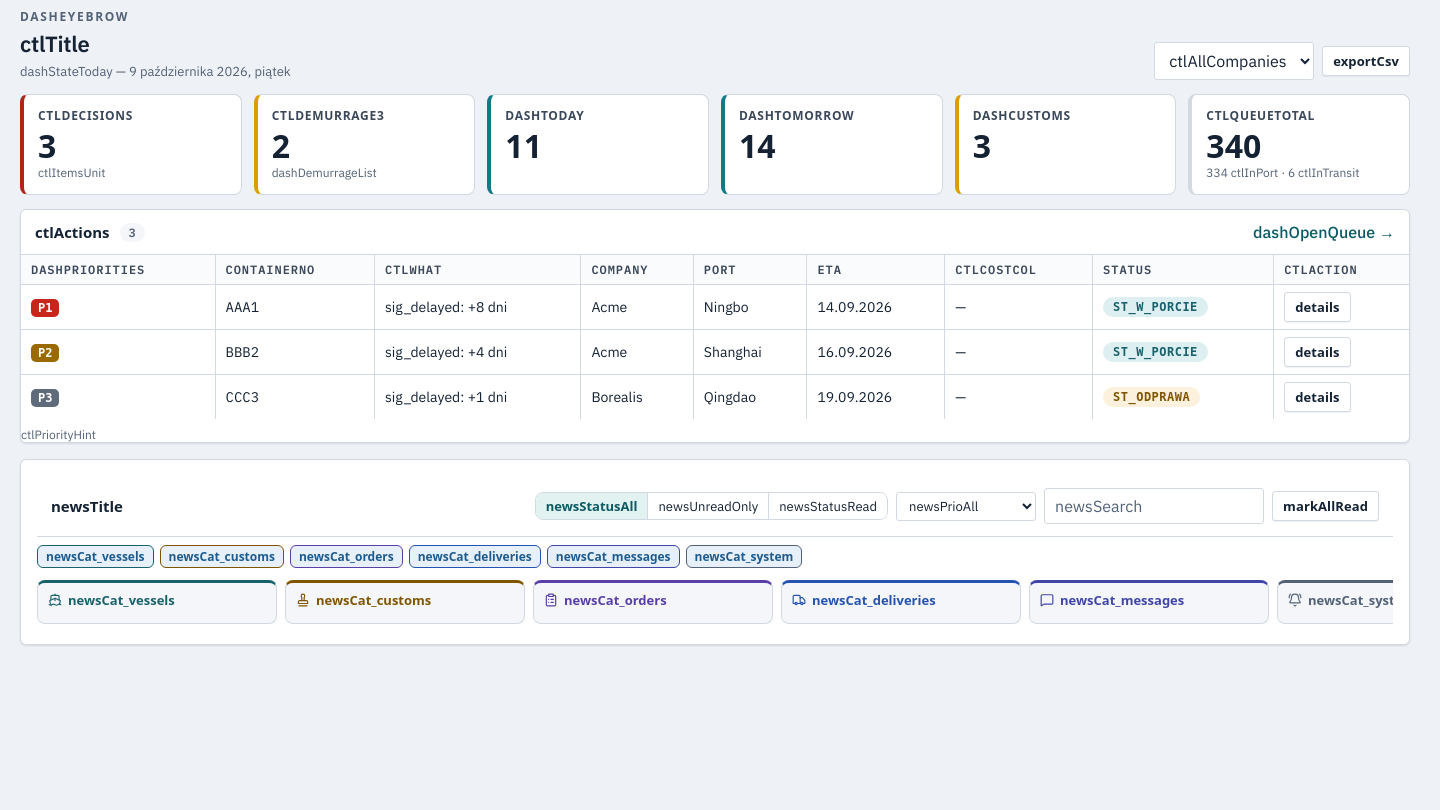
Test: Wieża kontrolna — dashboard 1a › filtr spółki zawęża listę działań
Expected: the text "CCC3" is shown, [215,375,374,419]
Select "Borealis" in the dropdown named "company" at {"x": 1234, "y": 61}, box [1154,42,1314,80]
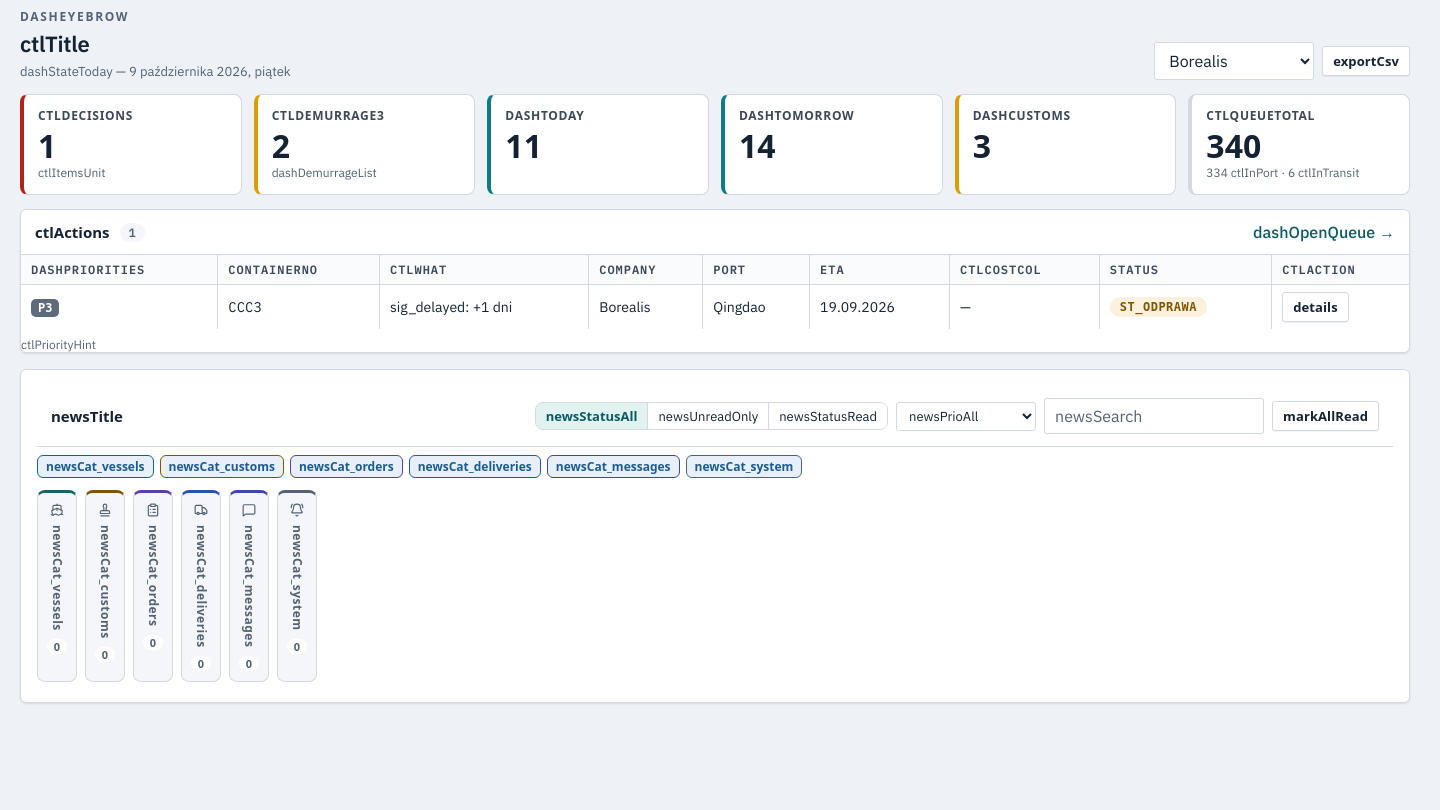
Expected: the text "CCC3" is shown, [218,285,380,329]
Expected: the text "AAA1" is gone
